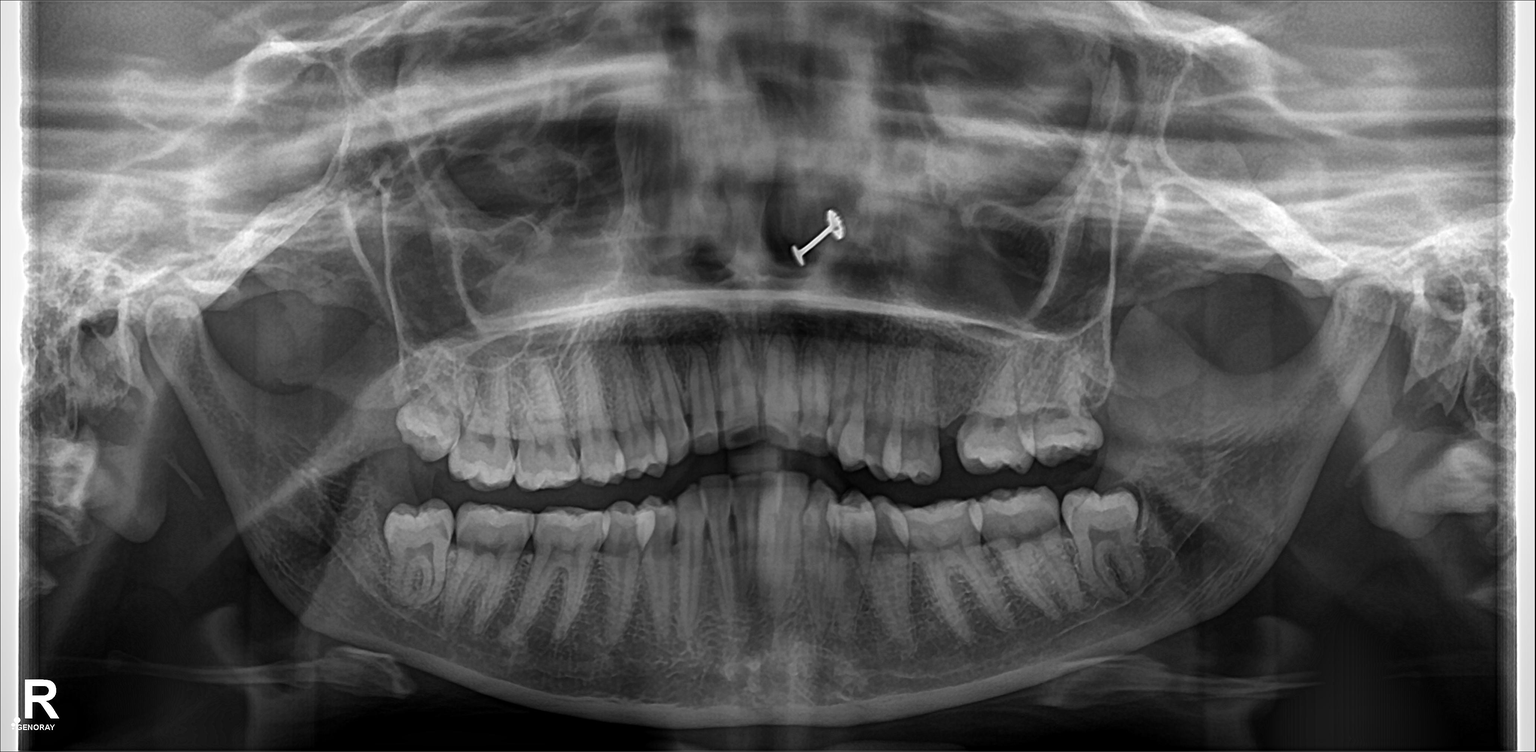Missing Tooth: (931, 372, 959, 466)
